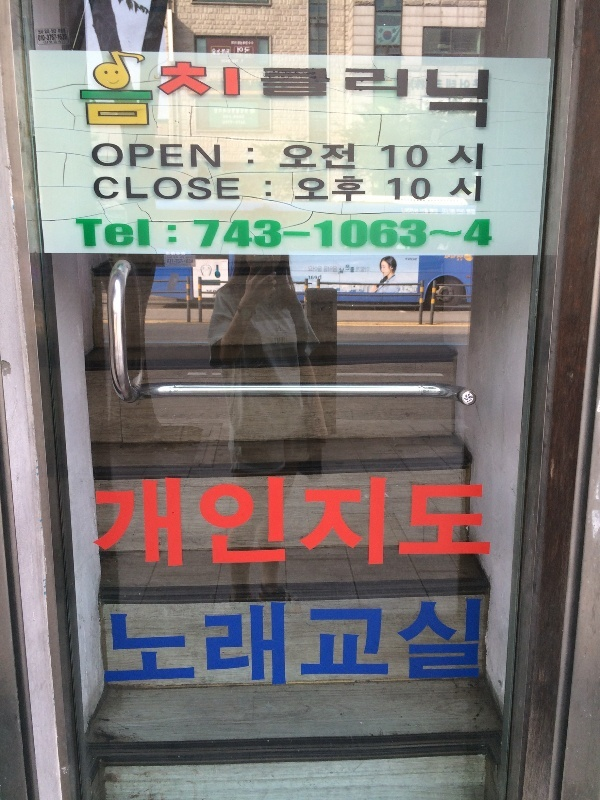text: (113, 592, 128, 692), (129, 592, 144, 692), (145, 592, 160, 692), (161, 592, 176, 692), (177, 592, 192, 692), (193, 592, 208, 692), (209, 592, 224, 692), (225, 592, 240, 692), (241, 592, 256, 692), (257, 592, 272, 692), (273, 592, 288, 692), (289, 592, 304, 692), (305, 592, 320, 692), (321, 592, 336, 692), (337, 592, 352, 692), (353, 592, 368, 692), (369, 592, 384, 692), (385, 592, 400, 692), (401, 592, 416, 692), (417, 592, 432, 692), (433, 592, 448, 692), (449, 592, 464, 692), (465, 592, 480, 692), (97, 477, 112, 575), (113, 477, 128, 575), (129, 477, 144, 575), (145, 477, 160, 575), (161, 477, 176, 575), (177, 477, 192, 575), (193, 477, 208, 575), (209, 477, 224, 575), (225, 477, 240, 575), (241, 477, 256, 575), (257, 477, 272, 575), (273, 477, 288, 575), (289, 477, 304, 575), (305, 477, 320, 575), (321, 477, 336, 575), (337, 477, 352, 575), (353, 477, 368, 575), (369, 477, 384, 575), (385, 477, 400, 575), (401, 477, 416, 575), (417, 477, 432, 575), (433, 477, 448, 575), (449, 477, 464, 575), (465, 477, 480, 575), (81, 51, 96, 131), (97, 51, 112, 131), (113, 51, 128, 131), (129, 51, 144, 131), (481, 477, 493, 575), (273, 65, 288, 132), (289, 65, 304, 132), (305, 65, 320, 132), (321, 65, 336, 132), (337, 65, 352, 132), (353, 65, 368, 132), (369, 65, 384, 132), (385, 65, 400, 132), (401, 65, 416, 132), (417, 65, 432, 132), (433, 65, 448, 132), (449, 65, 464, 132), (465, 65, 480, 132), (261, 65, 272, 132), (145, 51, 154, 131), (225, 58, 241, 101), (81, 211, 96, 256), (97, 211, 112, 256), (113, 211, 128, 256), (129, 211, 144, 256), (145, 211, 160, 256), (161, 211, 176, 256), (177, 211, 192, 256), (193, 211, 208, 256), (209, 211, 224, 256), (225, 211, 240, 256), (241, 211, 256, 256), (257, 211, 272, 256), (273, 211, 288, 256), (289, 211, 304, 256), (305, 211, 320, 256), (321, 211, 336, 256), (337, 211, 352, 256), (353, 211, 368, 256), (369, 211, 384, 256), (385, 211, 400, 256), (401, 211, 416, 256), (417, 211, 432, 256), (433, 211, 448, 256), (449, 211, 464, 256), (465, 211, 480, 256), (481, 211, 496, 256), (161, 58, 176, 101), (177, 58, 192, 101), (193, 58, 208, 101), (209, 58, 224, 101), (481, 65, 490, 132), (106, 592, 112, 692), (305, 173, 320, 206), (321, 173, 336, 206), (337, 173, 352, 206), (353, 173, 368, 206), (385, 141, 400, 173), (401, 141, 416, 173), (417, 141, 432, 173), (433, 141, 448, 173), (449, 141, 464, 173), (465, 141, 480, 173), (385, 174, 400, 206), (401, 174, 416, 206), (417, 174, 432, 206), (433, 174, 448, 206), (449, 174, 464, 206), (465, 174, 480, 206), (289, 142, 304, 173), (305, 142, 320, 173), (321, 142, 336, 173), (337, 142, 352, 173), (97, 140, 112, 170), (113, 140, 128, 170), (129, 140, 144, 170), (145, 140, 160, 170), (161, 140, 176, 170), (177, 140, 192, 170), (193, 140, 208, 170), (481, 592, 485, 692), (97, 175, 112, 201), (113, 175, 128, 201), (129, 175, 144, 201), (145, 175, 160, 201), (161, 175, 176, 201), (177, 175, 192, 201), (193, 175, 208, 201), (209, 175, 224, 201), (225, 175, 240, 201), (209, 140, 221, 170), (73, 211, 80, 256), (93, 477, 96, 575), (225, 39, 240, 57), (241, 39, 255, 57), (211, 39, 224, 57), (297, 173, 304, 206), (353, 264, 369, 275), (247, 146, 256, 165), (321, 264, 336, 275), (337, 264, 352, 275), (283, 142, 288, 173), (91, 140, 96, 170), (275, 323, 288, 333), (157, 58, 160, 101), (353, 142, 357, 173), (309, 264, 320, 275), (49, 34, 64, 42), (274, 337, 288, 345), (49, 28, 64, 35), (266, 181, 272, 198), (381, 141, 384, 173), (481, 141, 484, 173), (79, 51, 80, 131), (177, 259, 193, 264), (38, 34, 48, 42), (49, 40, 64, 45), (38, 28, 48, 35), (309, 276, 320, 282), (481, 174, 483, 206), (177, 255, 193, 259), (167, 259, 176, 264), (405, 258, 416, 262), (168, 255, 176, 259), (95, 175, 96, 201), (65, 34, 68, 42), (44, 40, 48, 45), (65, 28, 66, 35), (321, 276, 322, 282)
